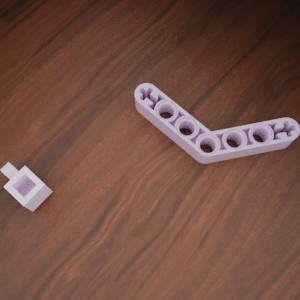lego: (134, 83, 299, 163), (0, 161, 52, 211)
